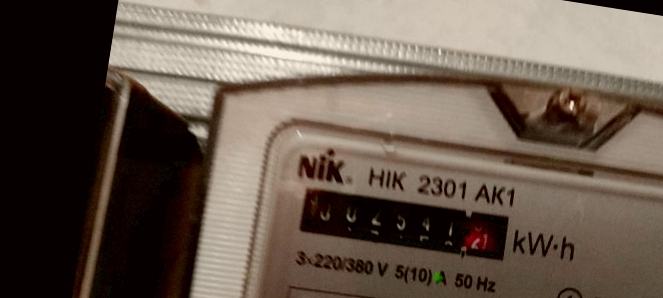0: (314, 195, 336, 223), (342, 196, 360, 225)
1: (441, 210, 458, 238)
2: (366, 200, 385, 227)
4: (418, 207, 434, 232)
5: (390, 203, 412, 233)
6: (466, 231, 484, 251)
screen: (285, 169, 526, 275)
